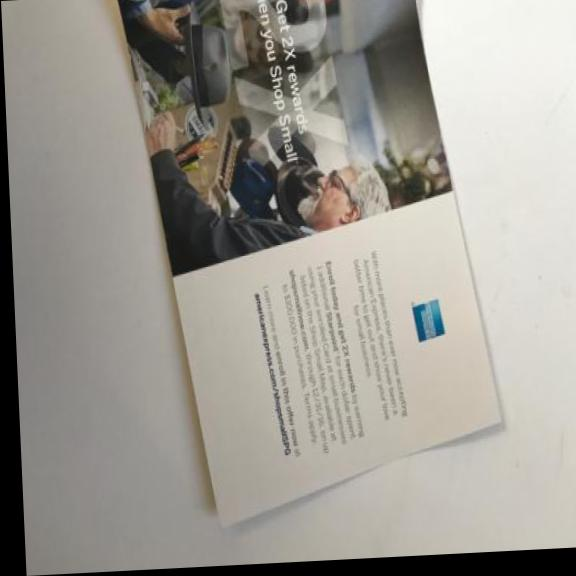Kertas: (108, 0, 510, 546)
